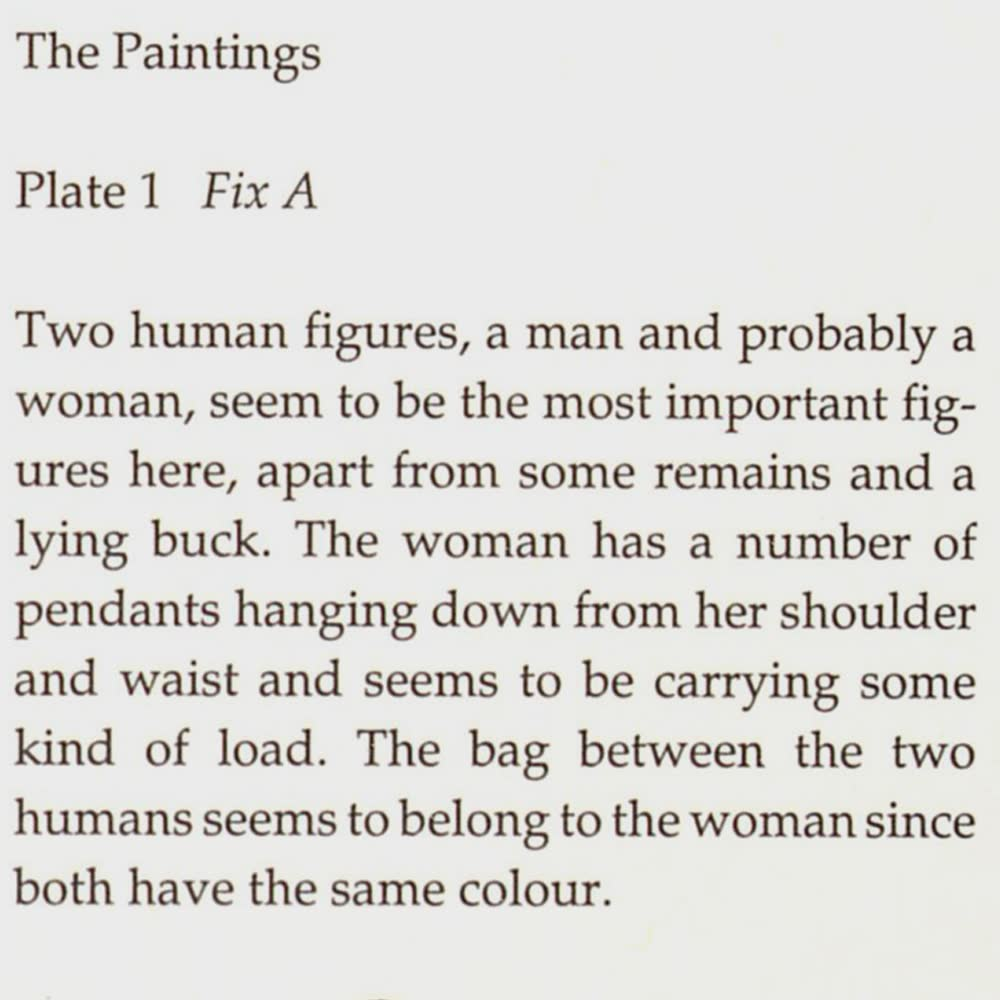text: (6, 25, 993, 934)
